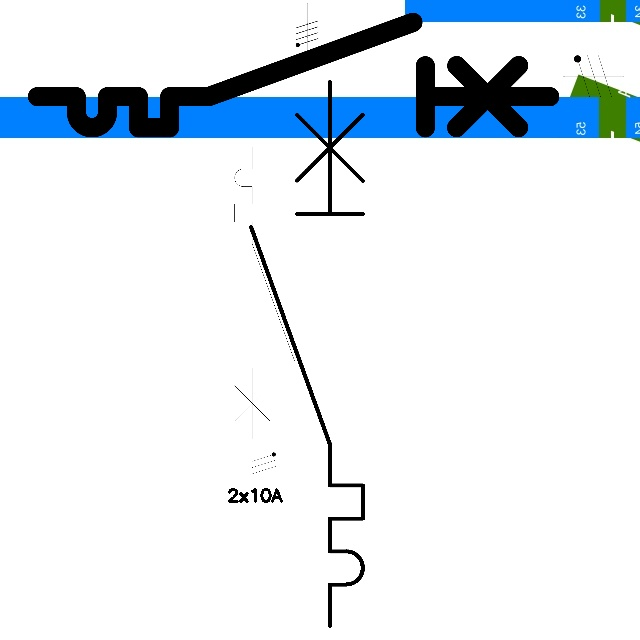interruptor_termomagnetico: (237, 67, 377, 639), (24, 9, 562, 141), (227, 139, 302, 446)
